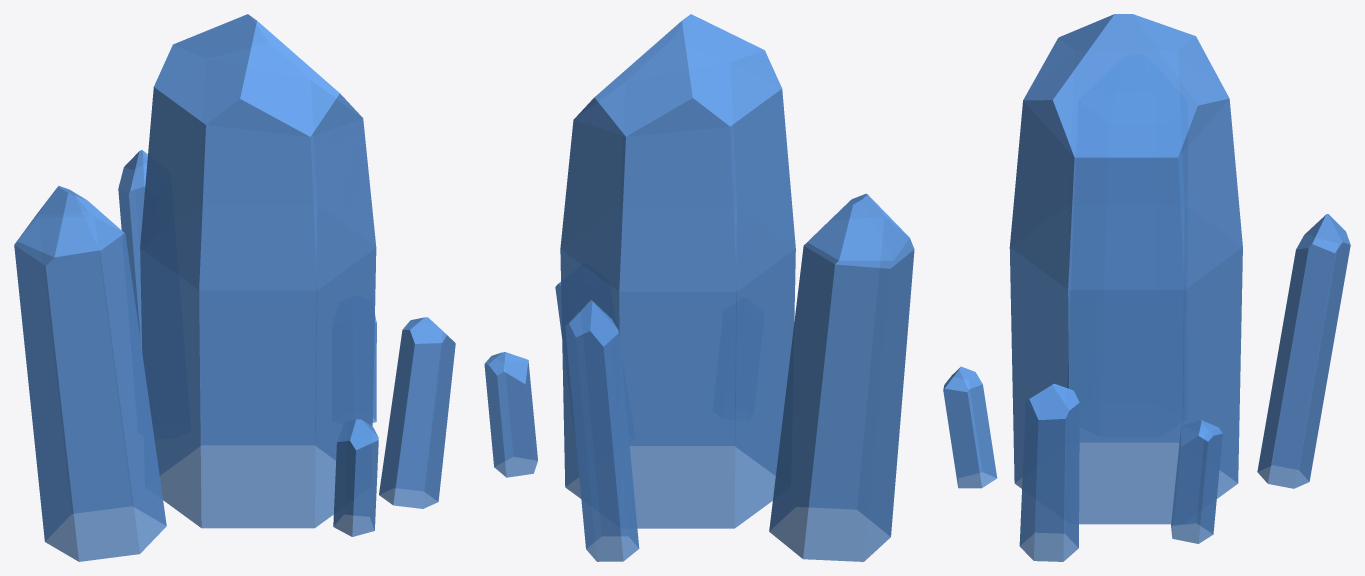
File: Crystals_l_02.fbx
3 renders of one model, left to right at view 1: azimuth 30°, elevation 25°; view 2: azimuth 150°, elevation 25°; view 3: azimuth 270°, elevation 25°, orthographic.
Parts seen in each view (by area): view 1: Crystals_l_02; view 2: Crystals_l_02; view 3: Crystals_l_02.
Boxes of the visible parts, left/top/right/bottom form: Crystals_l_02: left=14, top=14, right=455, bottom=561; Crystals_l_02: left=484, top=14, right=914, bottom=561; Crystals_l_02: left=943, top=14, right=1350, bottom=561.
Bounding box in the file's own units: 300 × 366 × 280.
